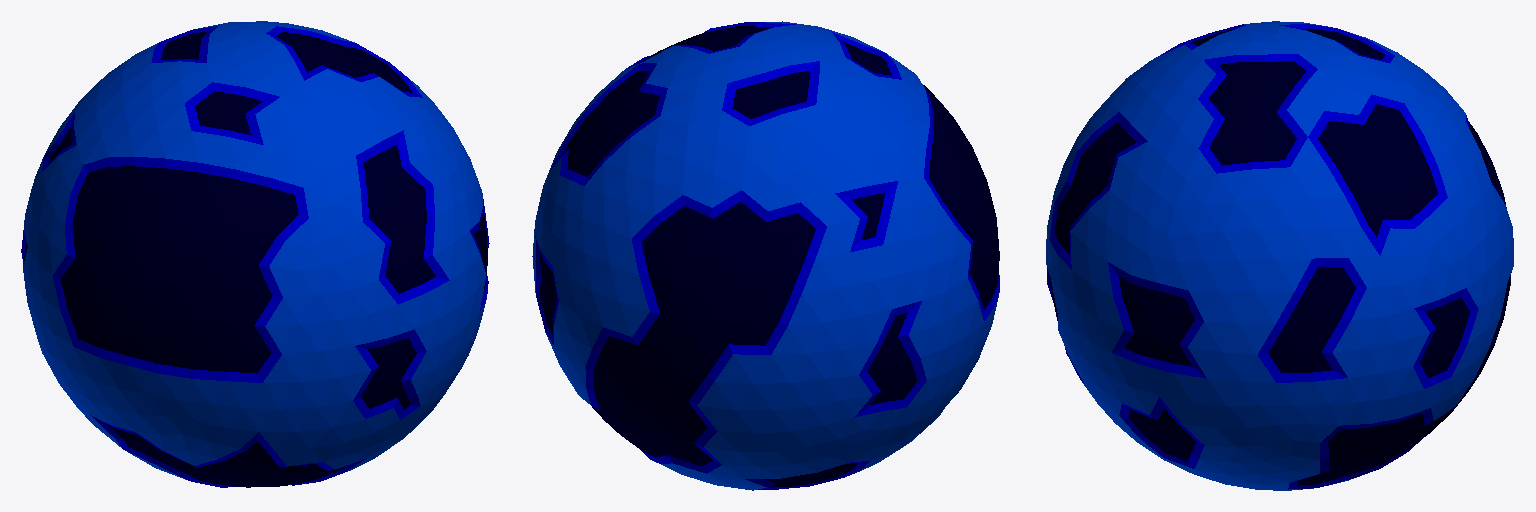
The model's file is Keminth.obj.
3 views of the same model, side by side, from view 1: azimuth 30°, elevation 25°; view 2: azimuth 150°, elevation 25°; view 3: azimuth 270°, elevation 25° (orthographic).
Visible parts, largest first — view 1: Icosphere.003_Icosphere.010; view 2: Icosphere.003_Icosphere.010; view 3: Icosphere.003_Icosphere.010.
Boxes of the visible parts, x1=… form: Icosphere.003_Icosphere.010: x1=21, y1=21, x2=489, y2=487; Icosphere.003_Icosphere.010: x1=532, y1=21, x2=999, y2=490; Icosphere.003_Icosphere.010: x1=1046, y1=21, x2=1513, y2=490.
Size of the model in its own units: 90.84 by 91.15 by 90.88.